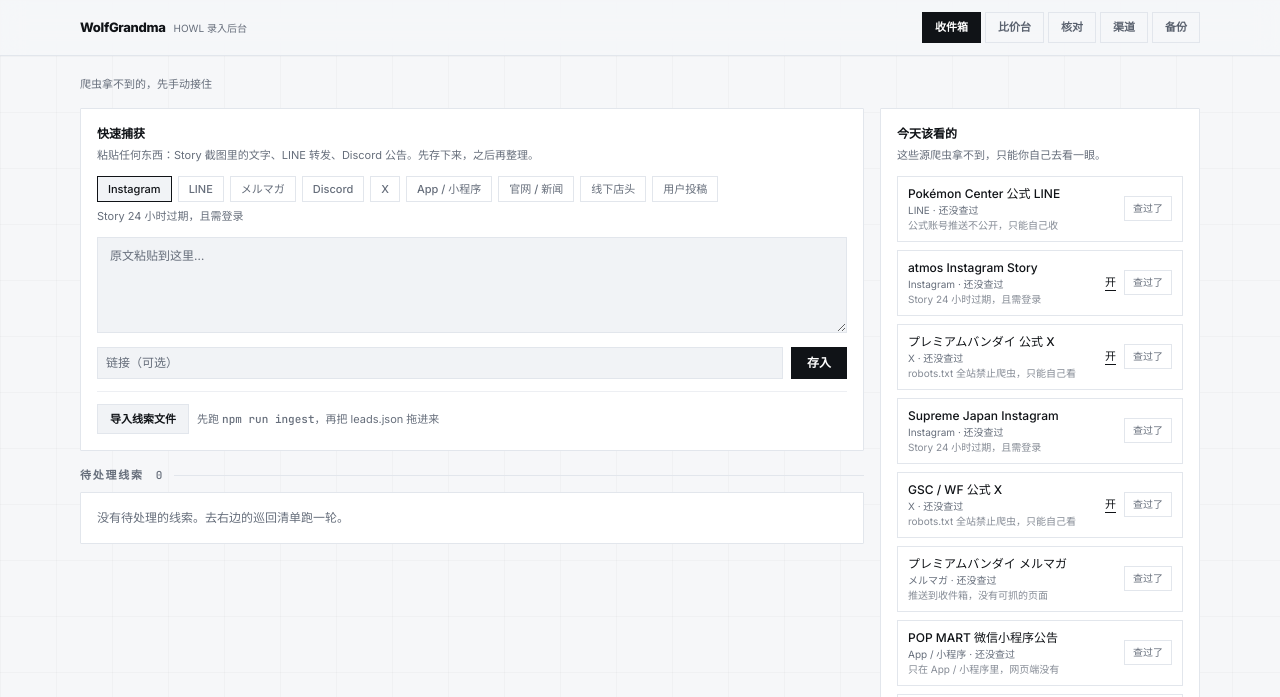
Test: researching a channel › says so plainly when the pasted page answers nothing
Step 1. Click the button "渠道" → (1124, 27), box 1100,12 -> 1148,42
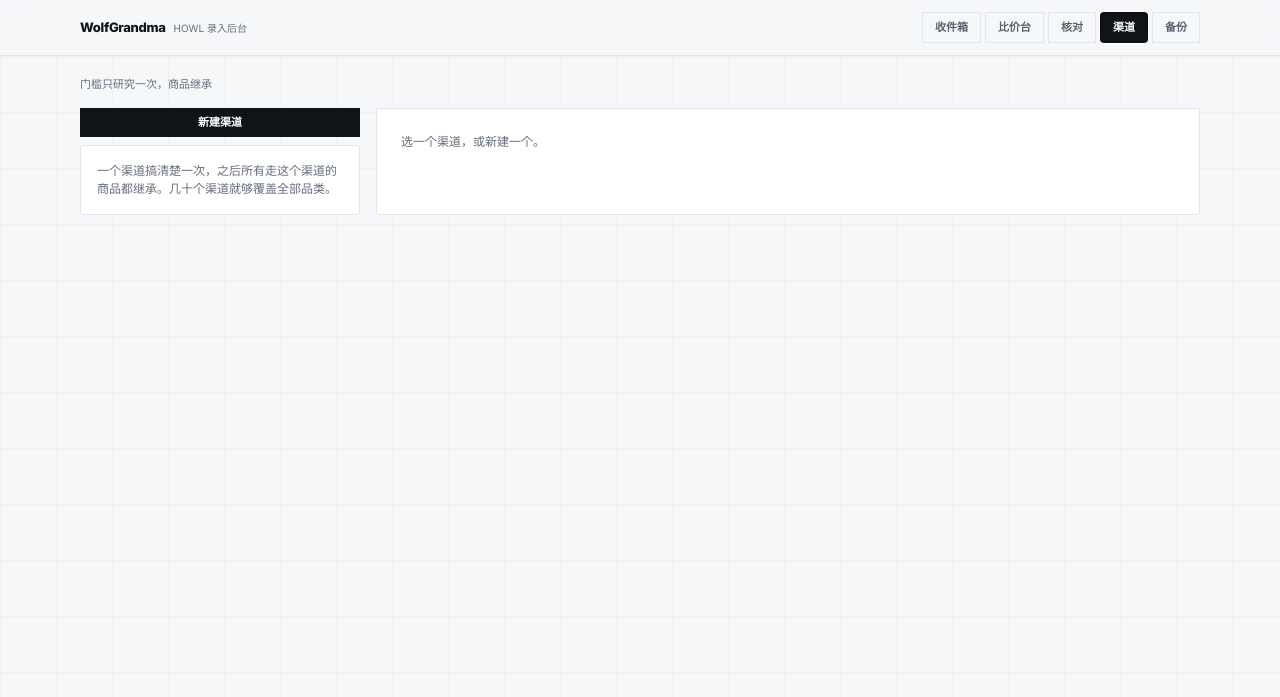
Step 2. Click the button "新建渠道" → (220, 122), box 80,108 -> 360,136
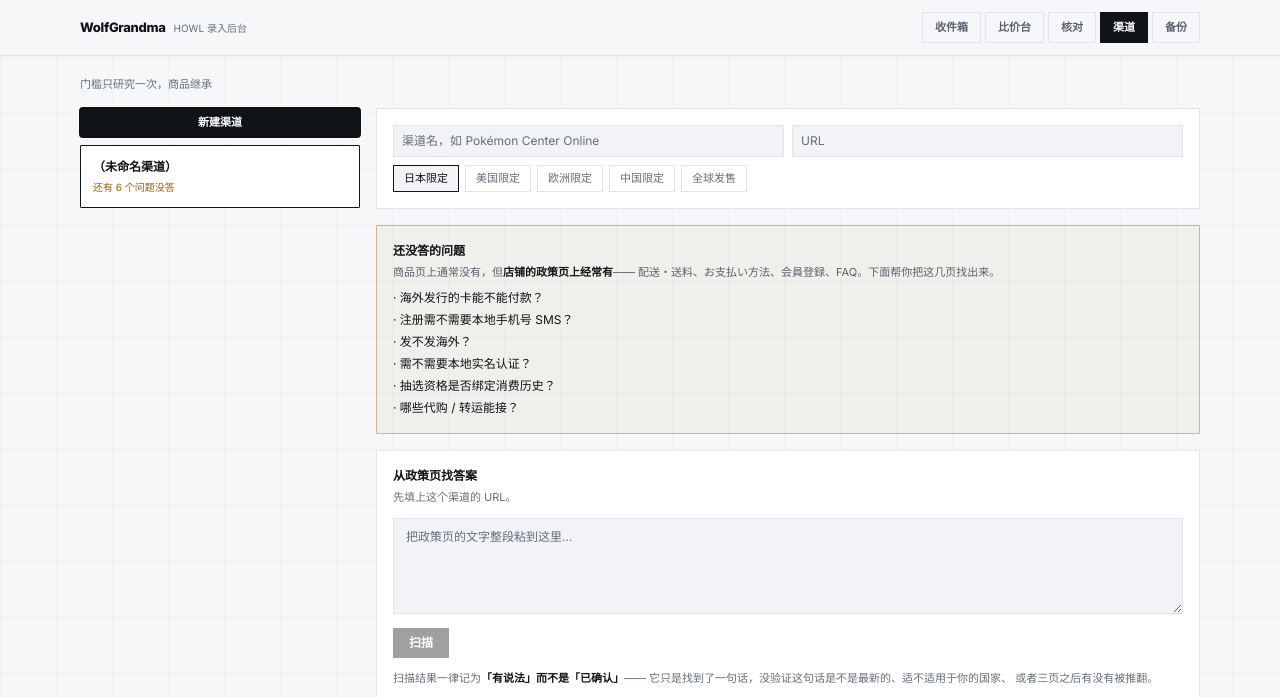
Step 3. Type "本日は晴天なり。" into the text box with placeholder "把政策页的文字整段粘到这里…" → (788, 566), box 393,518 -> 1183,614
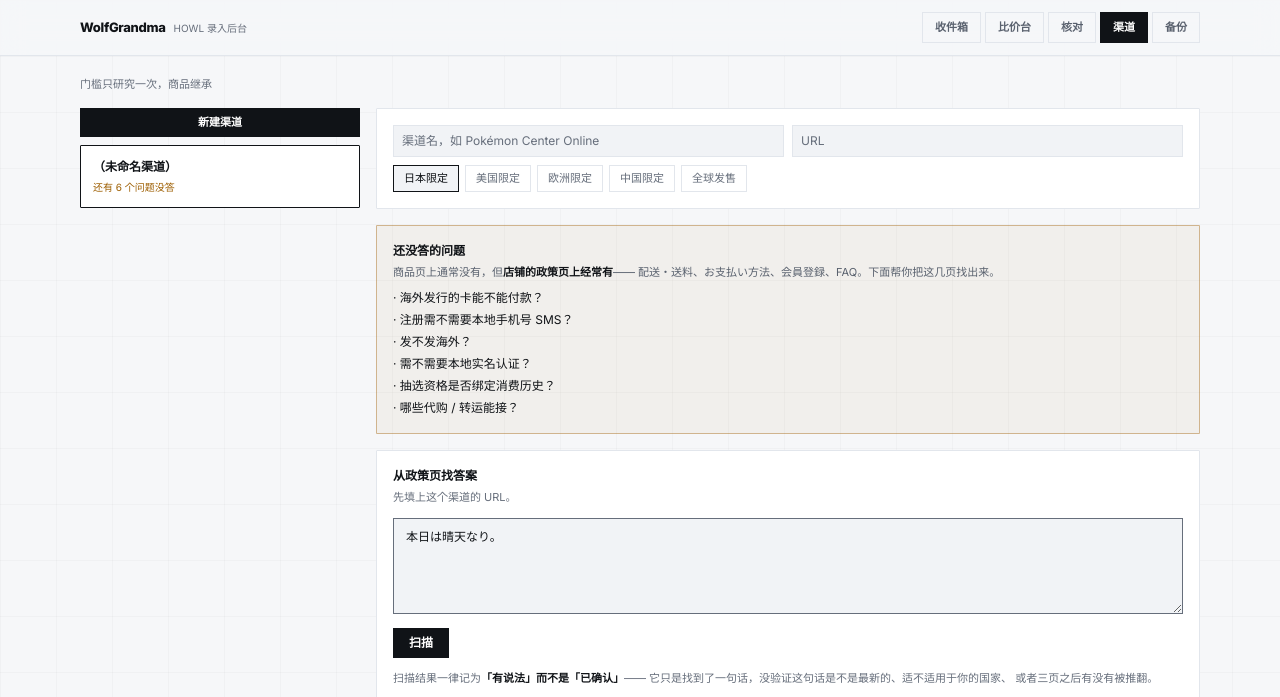
Step 4. Click the button "扫描" → (421, 643), box 393,628 -> 449,658
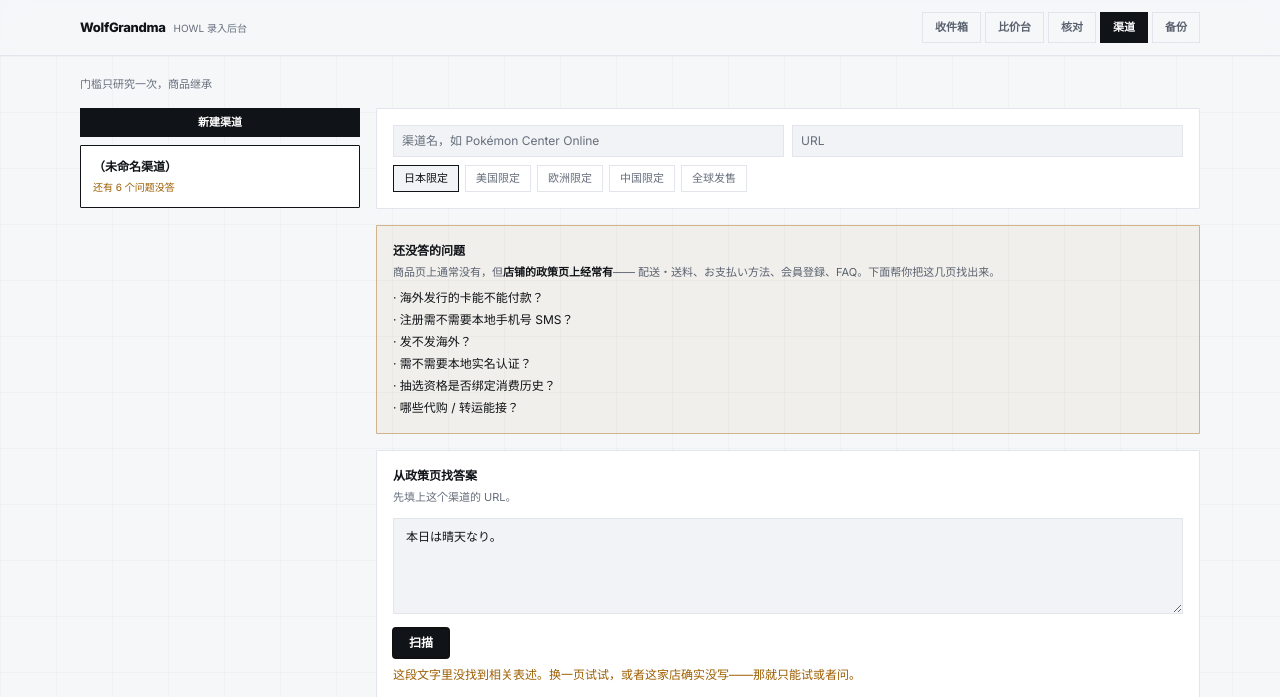
Check: the text "这段文字里没找到相关表述。换一页试试，或者这家店确实没写——那就只能试或者问。" is shown, box 393,667 -> 861,682
